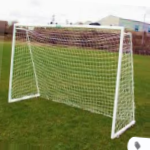goals: (7, 22, 140, 139)
